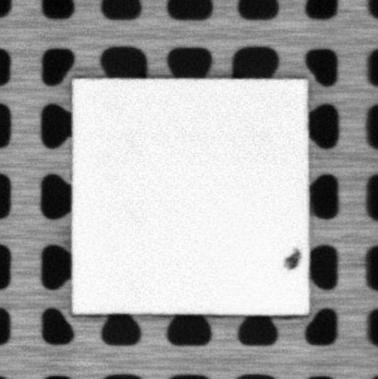DIE_INK: (281, 246, 302, 272)
